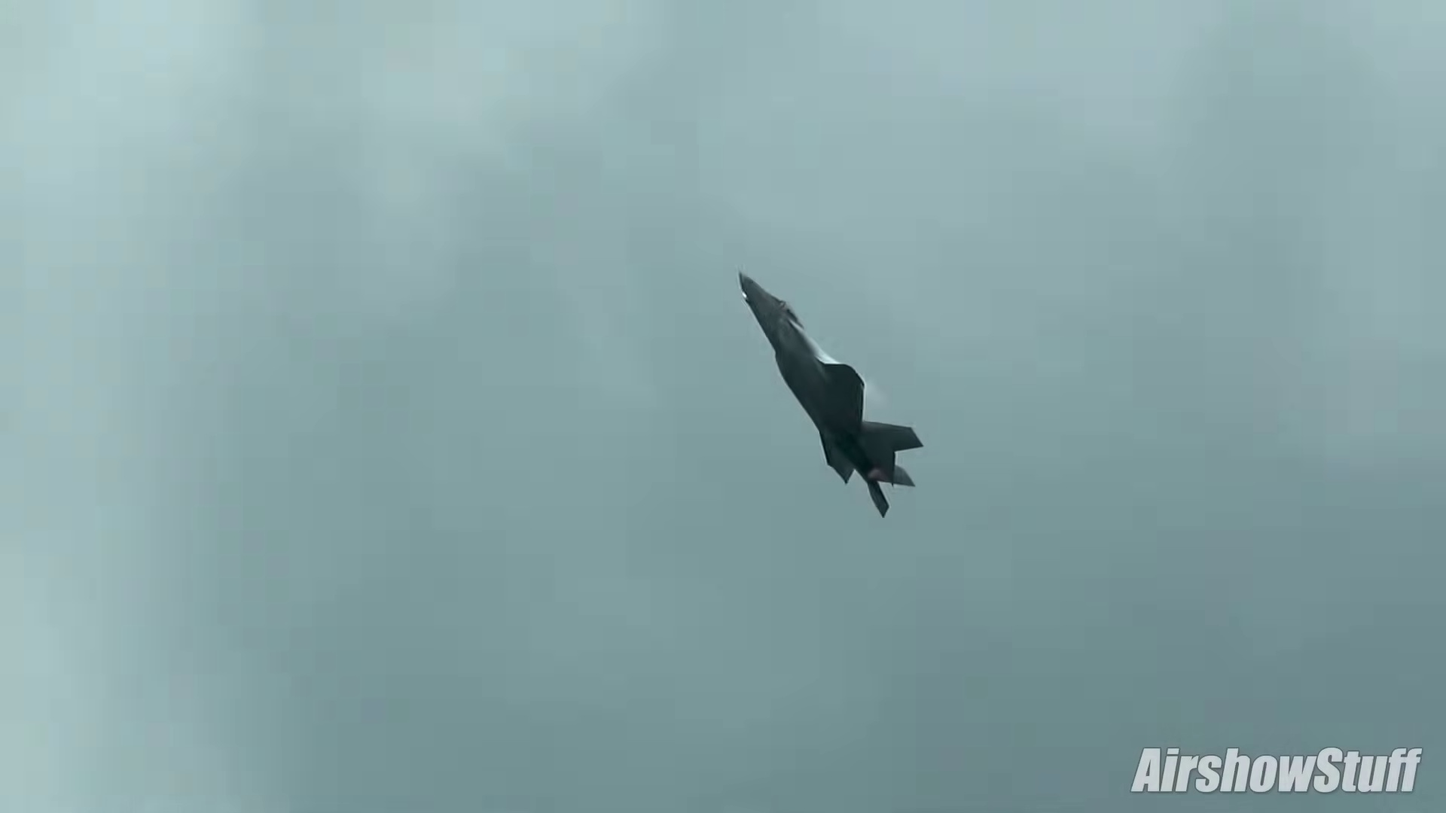F35: (736, 268, 932, 522)
